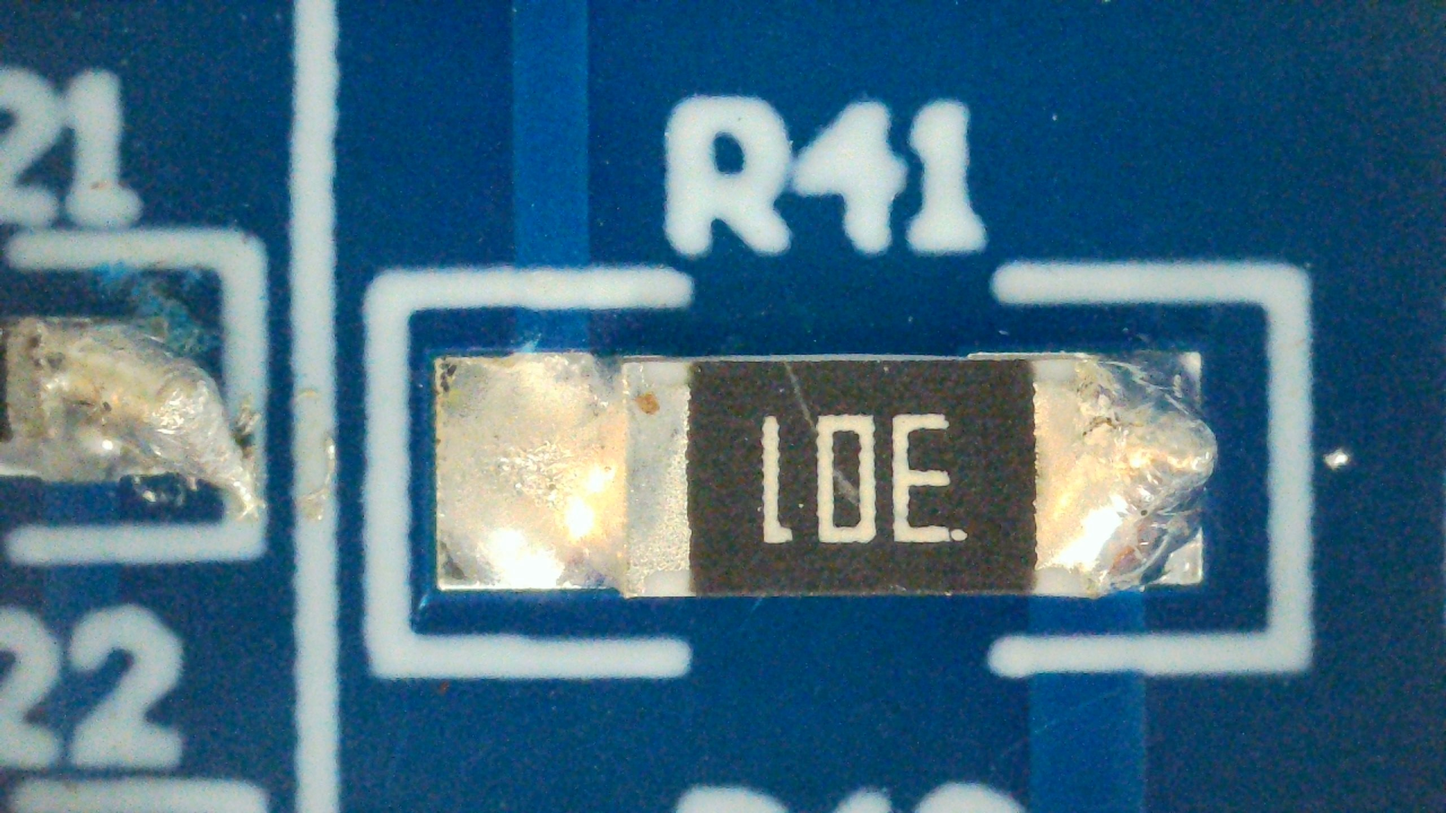OK: (435, 351, 1217, 598)
